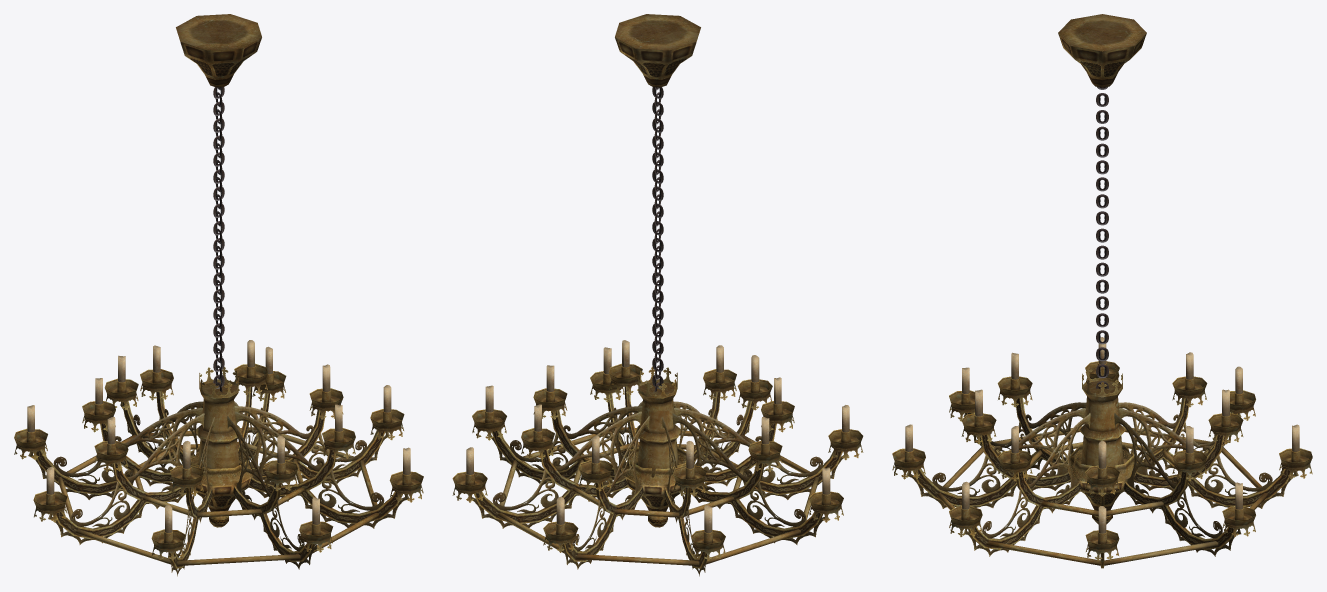
File: chandelier_large.dae
The picture shows the model from 3 angles, left to right: view 1: azimuth 30°, elevation 25°; view 2: azimuth 150°, elevation 25°; view 3: azimuth 270°, elevation 25°; orthographic projection.
Visible parts, largest first — view 1: polySurface62, polySurface109, top1, polySurface79, polySurface126, polySurface129, polySurface118, polySurface3, polySurface124, polySurface127, polySurface120, polySurface133 (+2 smaller); view 2: polySurface62, polySurface109, top1, polySurface122, polySurface79, polySurface129, polySurface3, polySurface128, polySurface124, polySurface120, polySurface127, polySurface123 (+1 smaller); view 3: polySurface62, polySurface109, top1, polySurface127, polySurface120, polySurface79, polySurface126, polySurface122, polySurface3, polySurface118, polySurface128, polySurface123 (+2 smaller).
Boxes of the visible parts, x1,y1,x2,y2 form: polySurface62: (15, 340, 423, 568); polySurface109: (14, 364, 423, 560); top1: (176, 14, 261, 87); polySurface79: (213, 87, 224, 391); polySurface126: (235, 411, 409, 528); polySurface129: (48, 413, 204, 544); polySurface118: (28, 407, 202, 499); polySurface3: (213, 87, 224, 392); polySurface124: (234, 406, 389, 485); polySurface127: (227, 416, 317, 569); polySurface120: (120, 401, 203, 467); polySurface133: (236, 414, 408, 528); polySurface62: (452, 340, 861, 568); polySurface109: (453, 363, 863, 560); top1: (615, 14, 700, 87); polySurface122: (467, 411, 641, 528); polySurface79: (652, 87, 663, 392); polySurface129: (672, 413, 828, 544); polySurface3: (652, 87, 663, 391); polySurface128: (674, 407, 848, 499); polySurface124: (487, 406, 642, 485); polySurface120: (561, 416, 649, 568); polySurface127: (673, 401, 756, 467); polySurface123: (468, 413, 640, 528); polySurface62: (892, 337, 1312, 568); polySurface109: (892, 361, 1312, 560); top1: (1058, 14, 1146, 87); polySurface127: (906, 408, 1085, 508); polySurface120: (1119, 408, 1298, 508); polySurface79: (1096, 87, 1108, 388); polySurface126: (964, 413, 1090, 555); polySurface122: (1114, 413, 1241, 556); polySurface3: (1096, 87, 1107, 388); polySurface118: (1118, 402, 1241, 473); polySurface128: (963, 402, 1086, 473); polySurface123: (1115, 414, 1240, 554).
Size of the model in its own units: 5.35 by 6.91 by 5.35.
